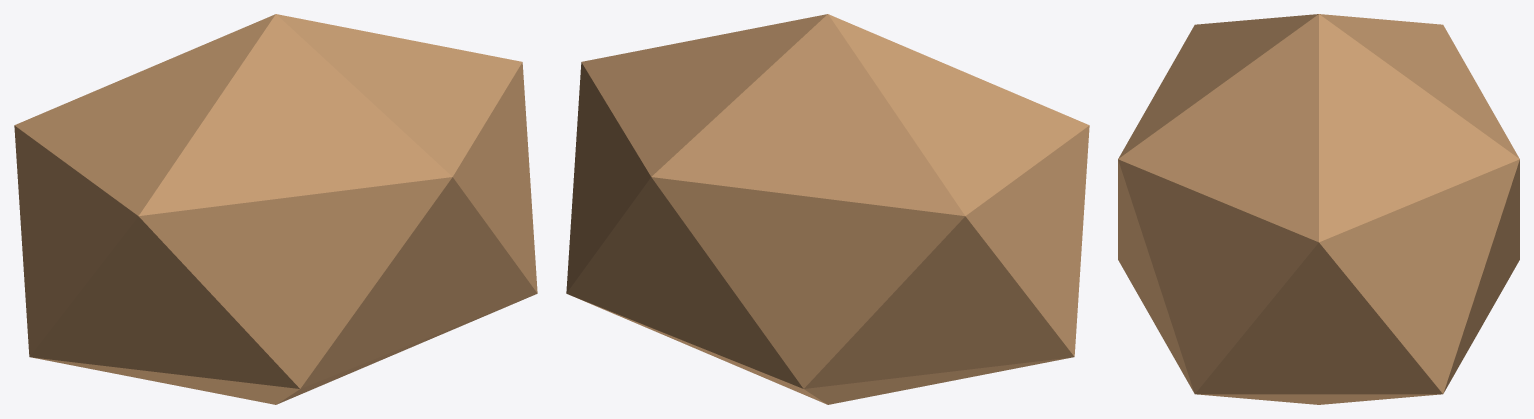
File: rock.glb
The picture shows the model from 3 angles, left to right: view 1: azimuth 30°, elevation 25°; view 2: azimuth 150°, elevation 25°; view 3: azimuth 270°, elevation 25°; orthographic projection.
Visible parts, largest first — view 1: RockMesh; view 2: RockMesh; view 3: RockMesh.
Part boxes in pixels (<box>): RockMesh: <box>14,14,537,404</box>; RockMesh: <box>566,14,1089,404</box>; RockMesh: <box>1118,14,1519,404</box>.
Bounding box in the file's own units: 1.11 × 0.84 × 0.7826.
